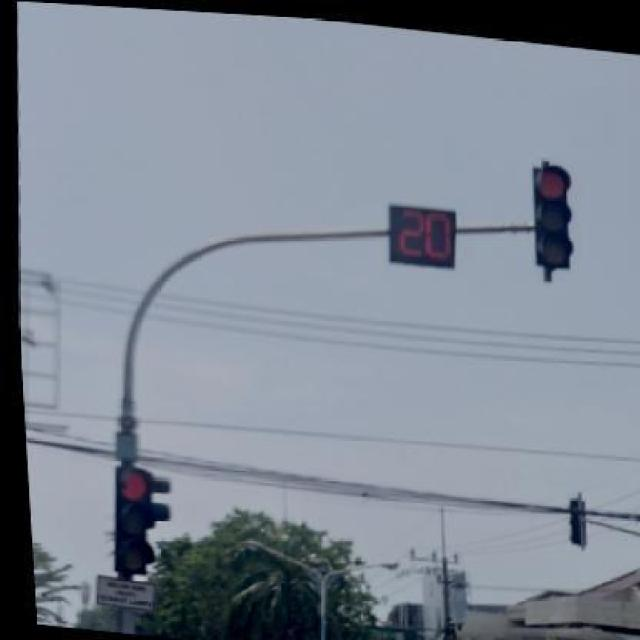Traffic Light -Red-: (98, 466, 156, 585), (526, 150, 579, 272)
